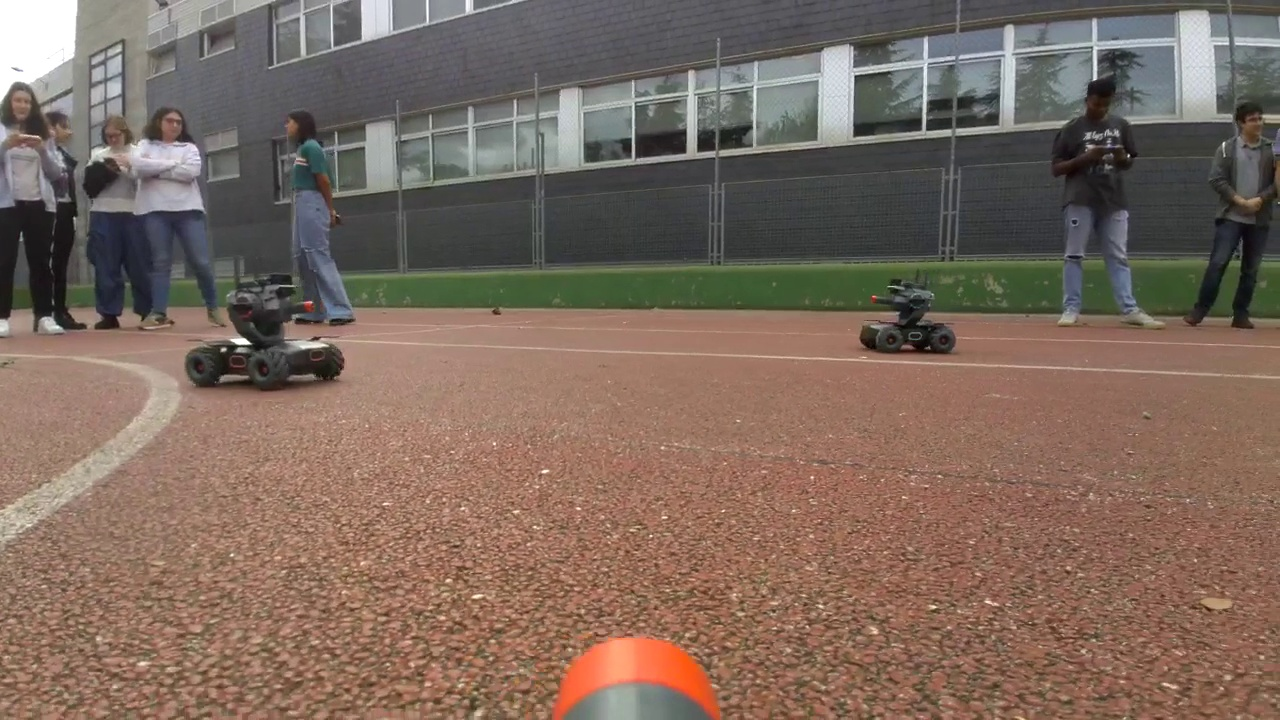robot: (185, 273, 346, 389), (860, 279, 956, 354)
